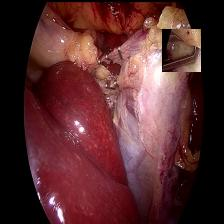Grasper: (161, 28, 200, 71)
